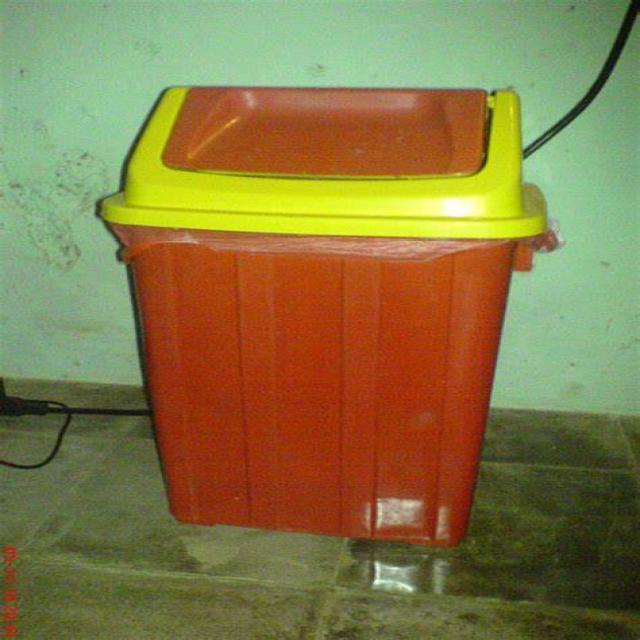garbage container: (121, 63, 560, 562)
